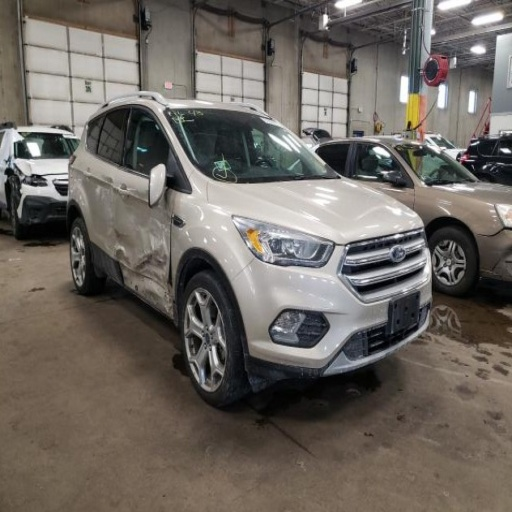dent: (113, 193, 171, 282), (85, 176, 119, 260), (122, 264, 169, 317)
scratch: (151, 219, 167, 252)
